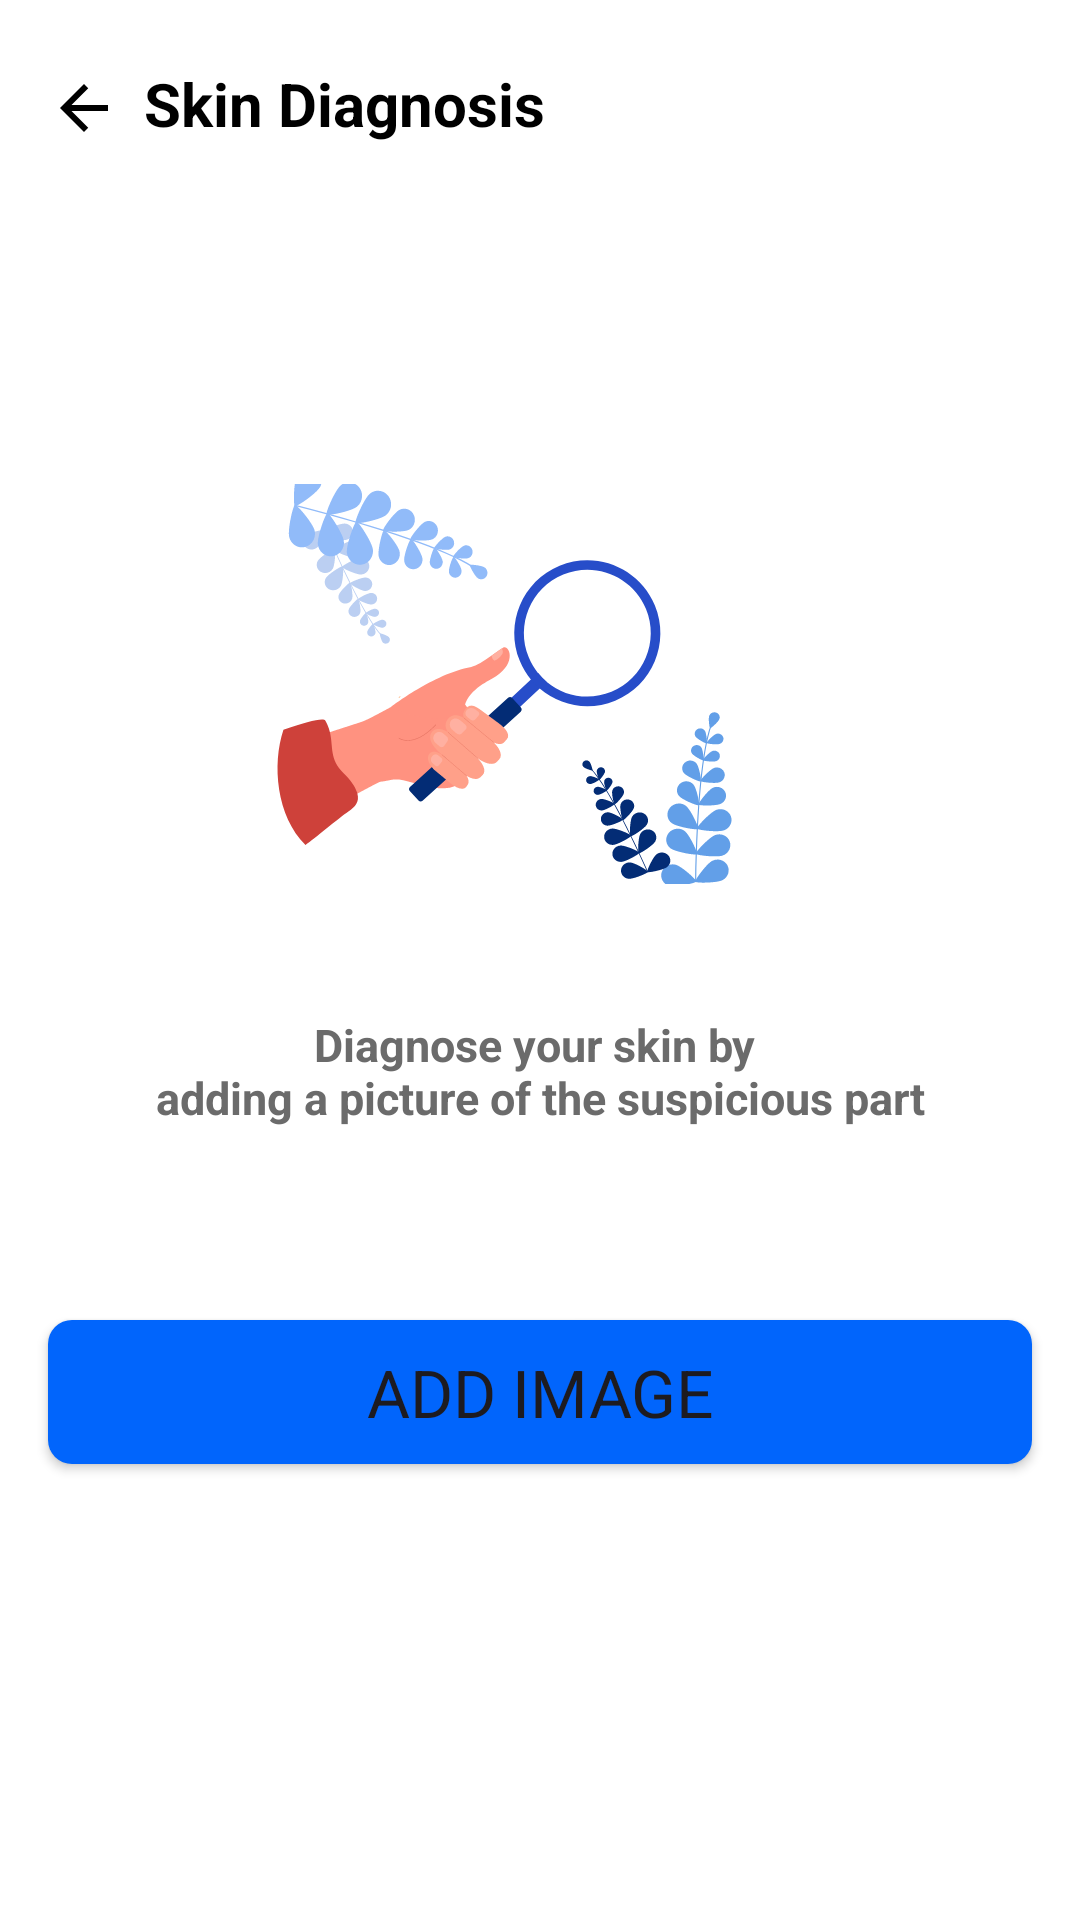

Where to tap for icons on this 1080×1920 app screen, as (x=x, y=y):
left arrow: (x=84, y=108)
